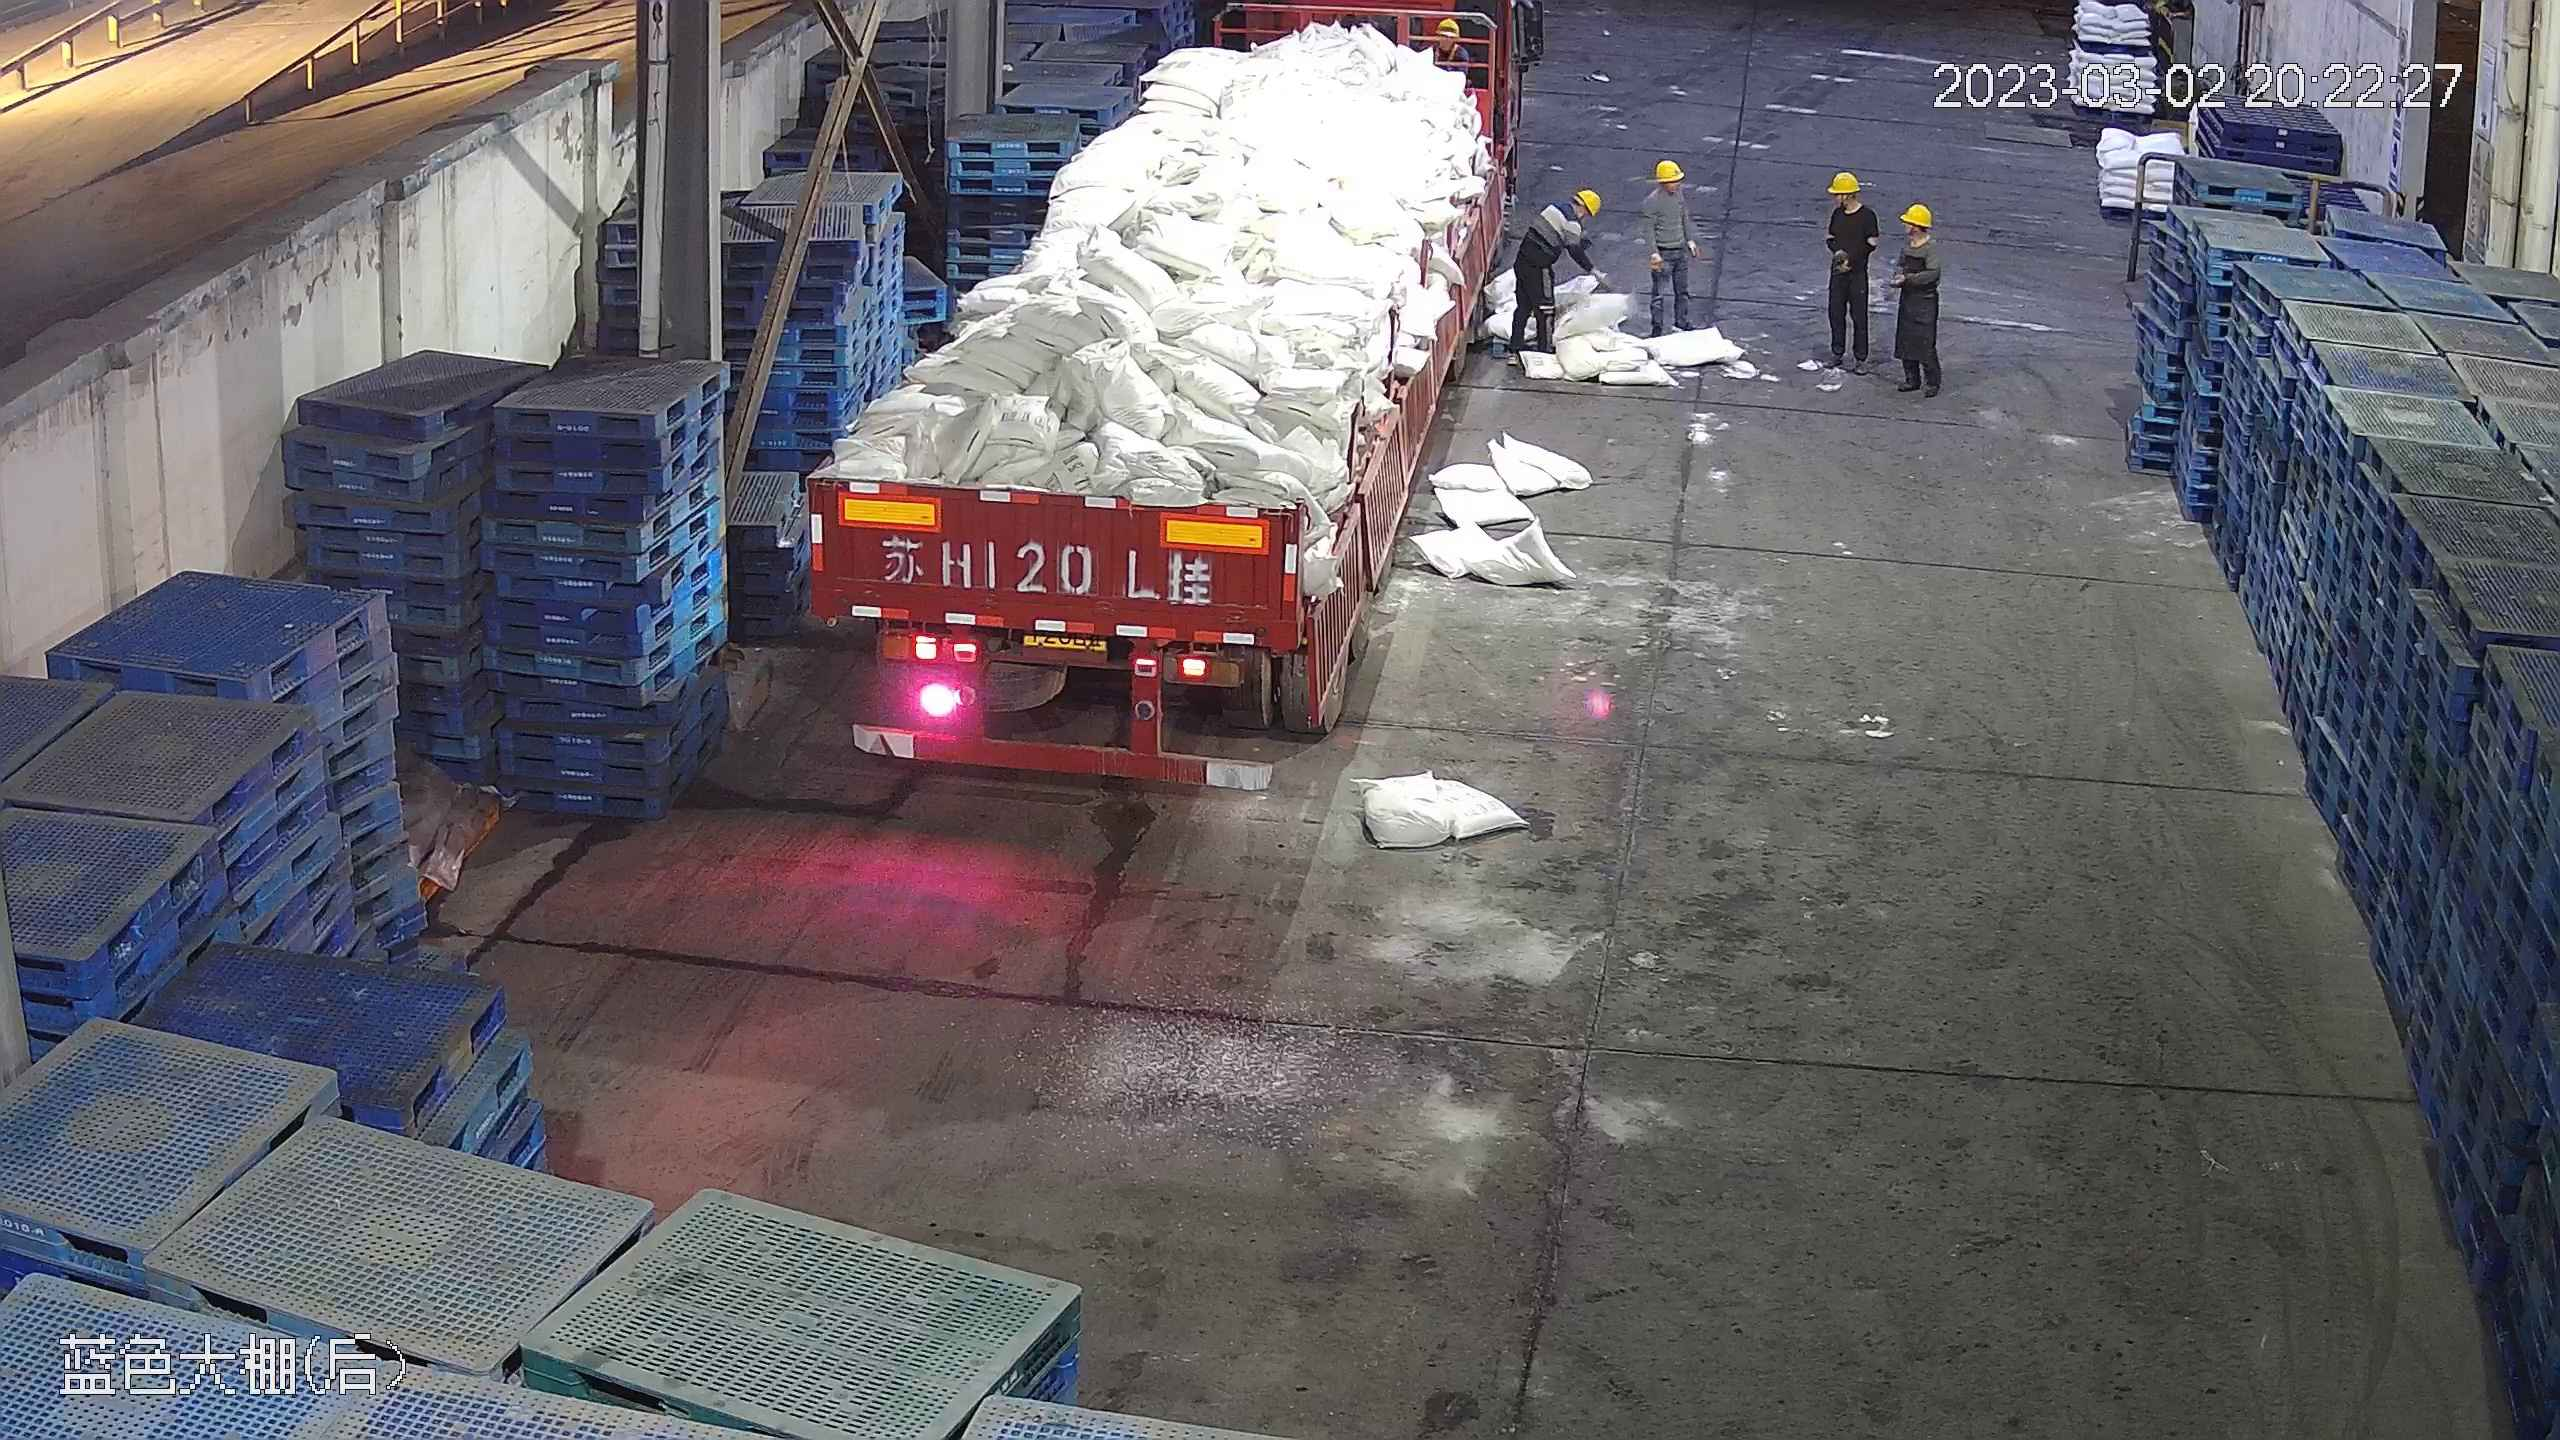belt: (1432, 42, 1460, 62)
head: (1533, 187, 1600, 247), (1641, 158, 1693, 219), (1893, 201, 1942, 266), (1825, 171, 1874, 233)
helmet: (1571, 184, 1603, 212), (1898, 204, 1933, 227), (1651, 158, 1682, 182), (1828, 172, 1861, 196), (1437, 18, 1460, 38)
people: (1512, 182, 1604, 363), (1637, 156, 1709, 338), (1887, 199, 1948, 396), (1820, 170, 1878, 373)
truck: (799, 4, 1526, 783)
